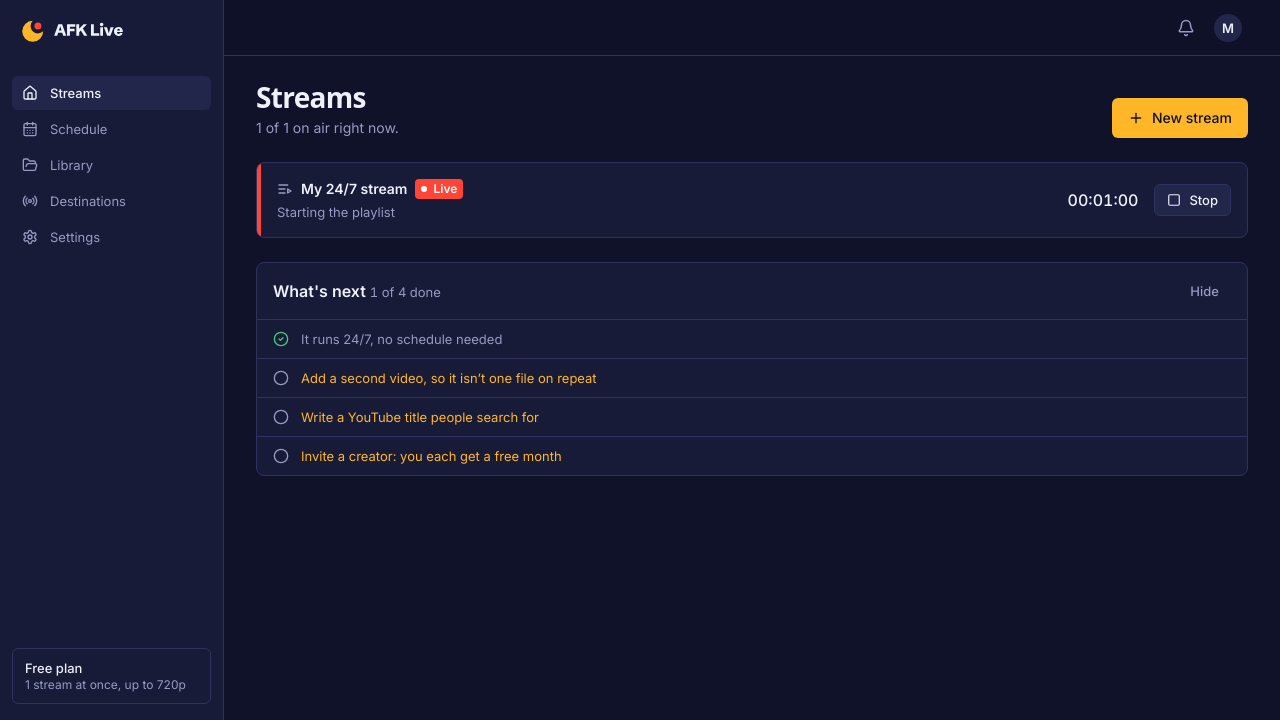
Test: What's next (ON-9) › lists next steps from the real stream, with links to where each is done, and hides for good
The image size is (1280, 720).
Expected: the link "Invite a creator: you each get a free month" is shown, [301,448,562,464]
Expected: the text "It runs 24/7, no schedule needed" is shown, [301,331,502,347]
Click the button "Hide" at (1205, 291), box [1178,275,1231,307]
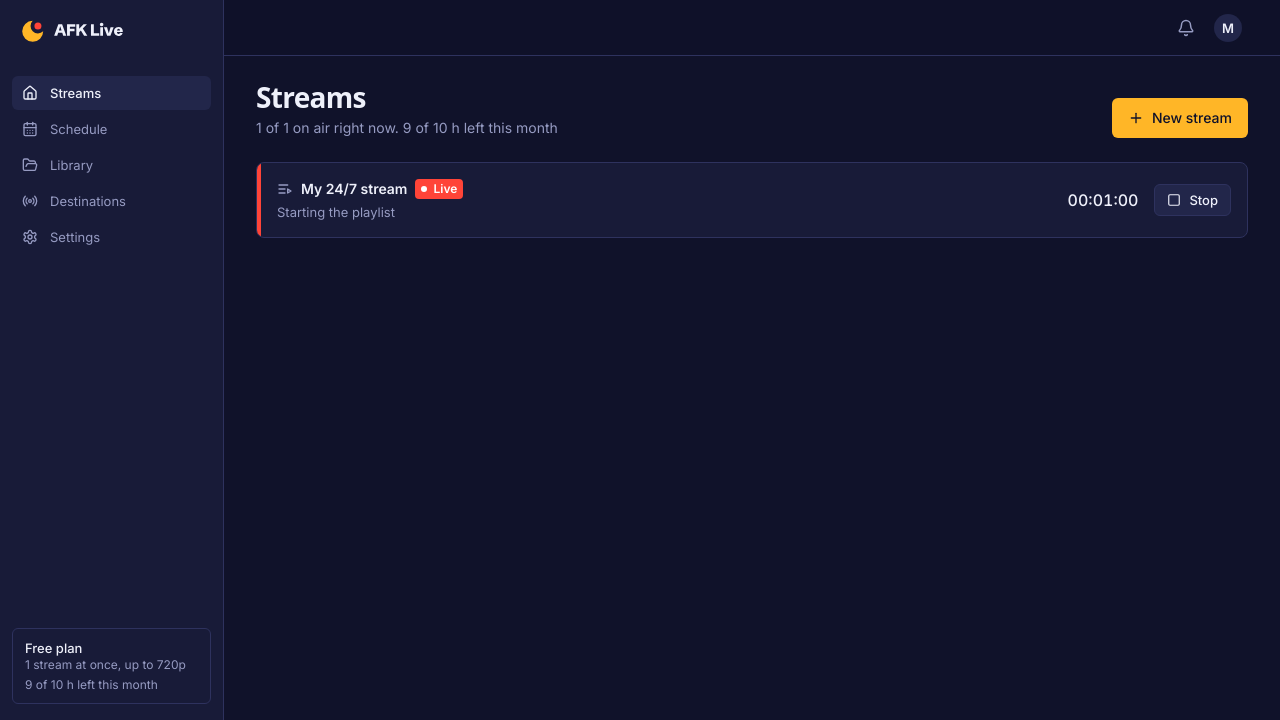
Now the heading "What's next" is gone
